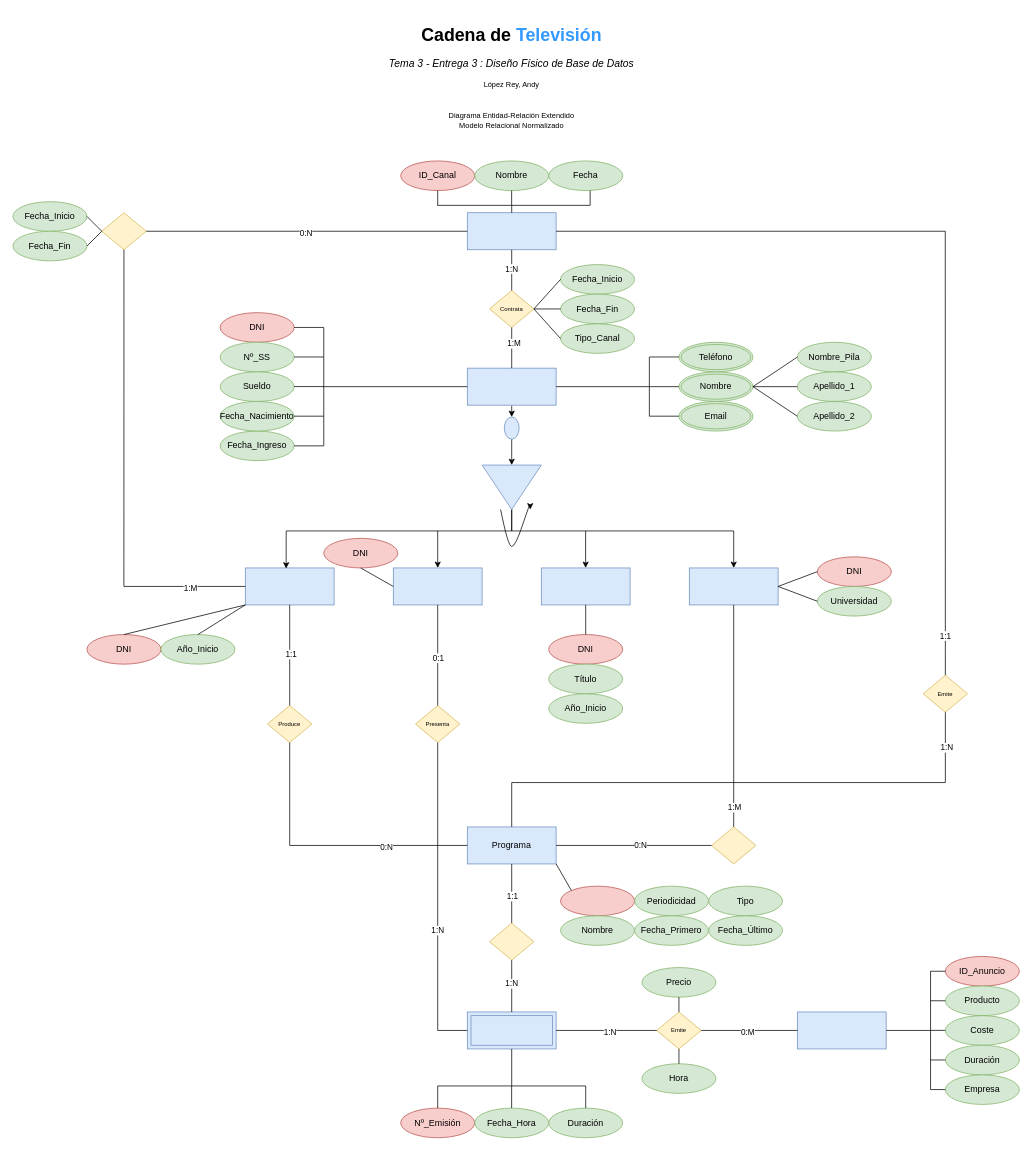
Image size: 1032x1151. Some labels were removed from this diagram. The shapes that lost their labels are listed below. From the top down, each one's centre as x and y in pixels, then its label:
At pixel 123 231: "Dirige".
At pixel 511 231: "Canal".
At pixel 511 386: "Empleado".
At pixel 289 586: "Directivo".
At pixel 437 586: "Presentador".
At pixel 585 586: "Técnico".
At pixel 733 586: "Periodista".
At pixel 733 845: "Trabaja".
At pixel 597 900: "ID_Programa".
At pixel 511 941: "Pertenece".
At pixel 511 1030: "Emisión".
At pixel 841 1030: "Anuncio".
